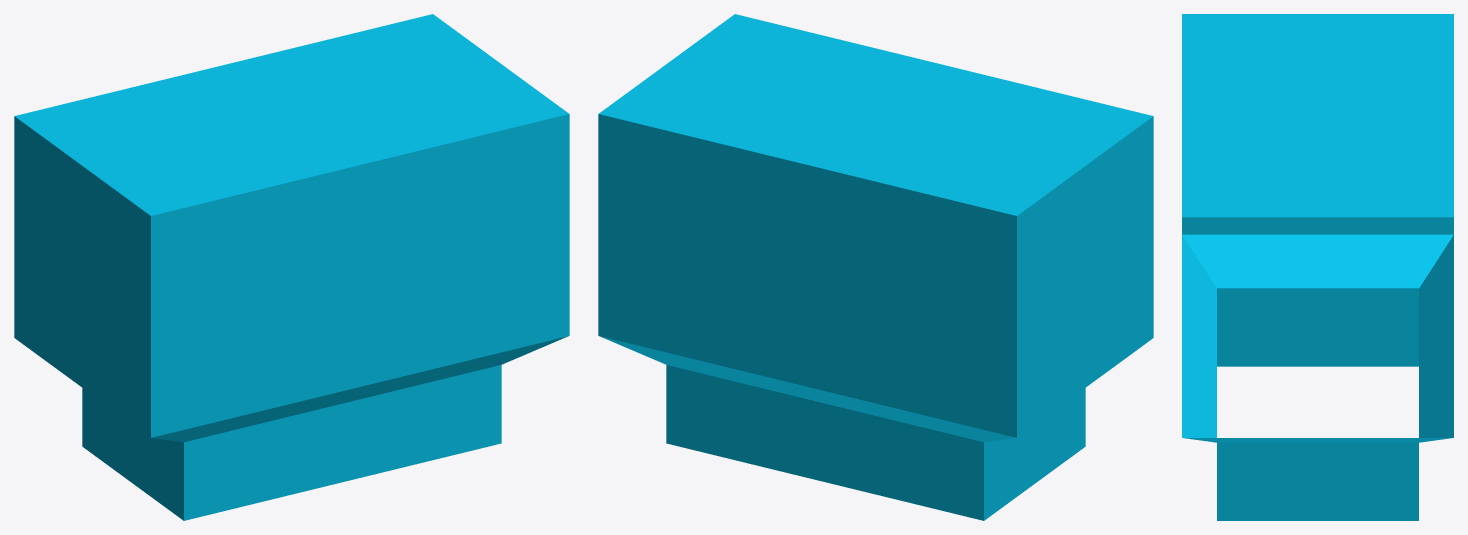
File: scope_01.fbx
3 views of the same model, side by side, from view 1: azimuth 30°, elevation 25°; view 2: azimuth 150°, elevation 25°; view 3: azimuth 270°, elevation 25° (orthographic).
Parts seen in each view (by area): view 1: scope_1.001; view 2: scope_1.001; view 3: scope_1.001.
Part boxes in pixels (x1,y1,x2,y2): scope_1.001: [14, 14, 569, 520]; scope_1.001: [598, 14, 1153, 520]; scope_1.001: [1182, 14, 1453, 520].
Size of the model in its own units: 215 by 162 by 122.
